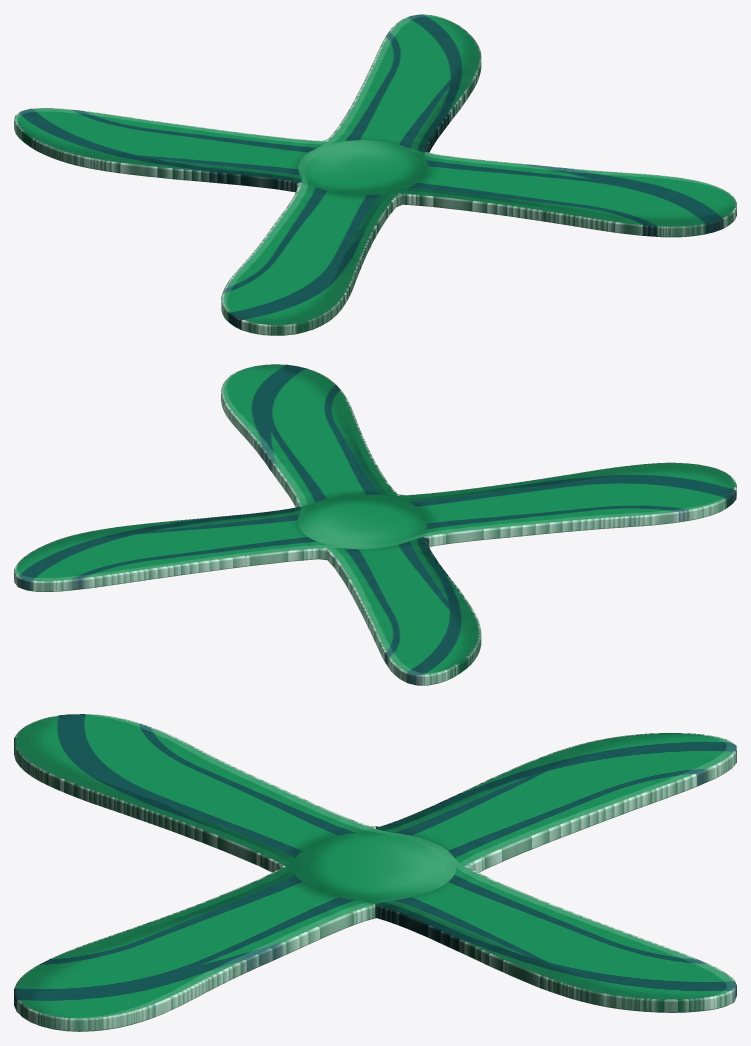
The model's file is Boomerang_3.fbx.
3 views of the same model, one above another, from view 1: azimuth 30°, elevation 25°; view 2: azimuth 150°, elevation 25°; view 3: azimuth 270°, elevation 25° (orthographic). The views are drawn at different scales.
Visible parts, largest first — view 1: Boomerang_3; view 2: Boomerang_3; view 3: Boomerang_3.
Boxes of the visible parts, x1=… form: Boomerang_3: x1=14, y1=14, x2=736, y2=335; Boomerang_3: x1=14, y1=364, x2=736, y2=685; Boomerang_3: x1=14, y1=714, x2=736, y2=1031.
Bounding box in the file's own units: 201 × 4 × 201.
Materials: 1 (1 with a texture image).
